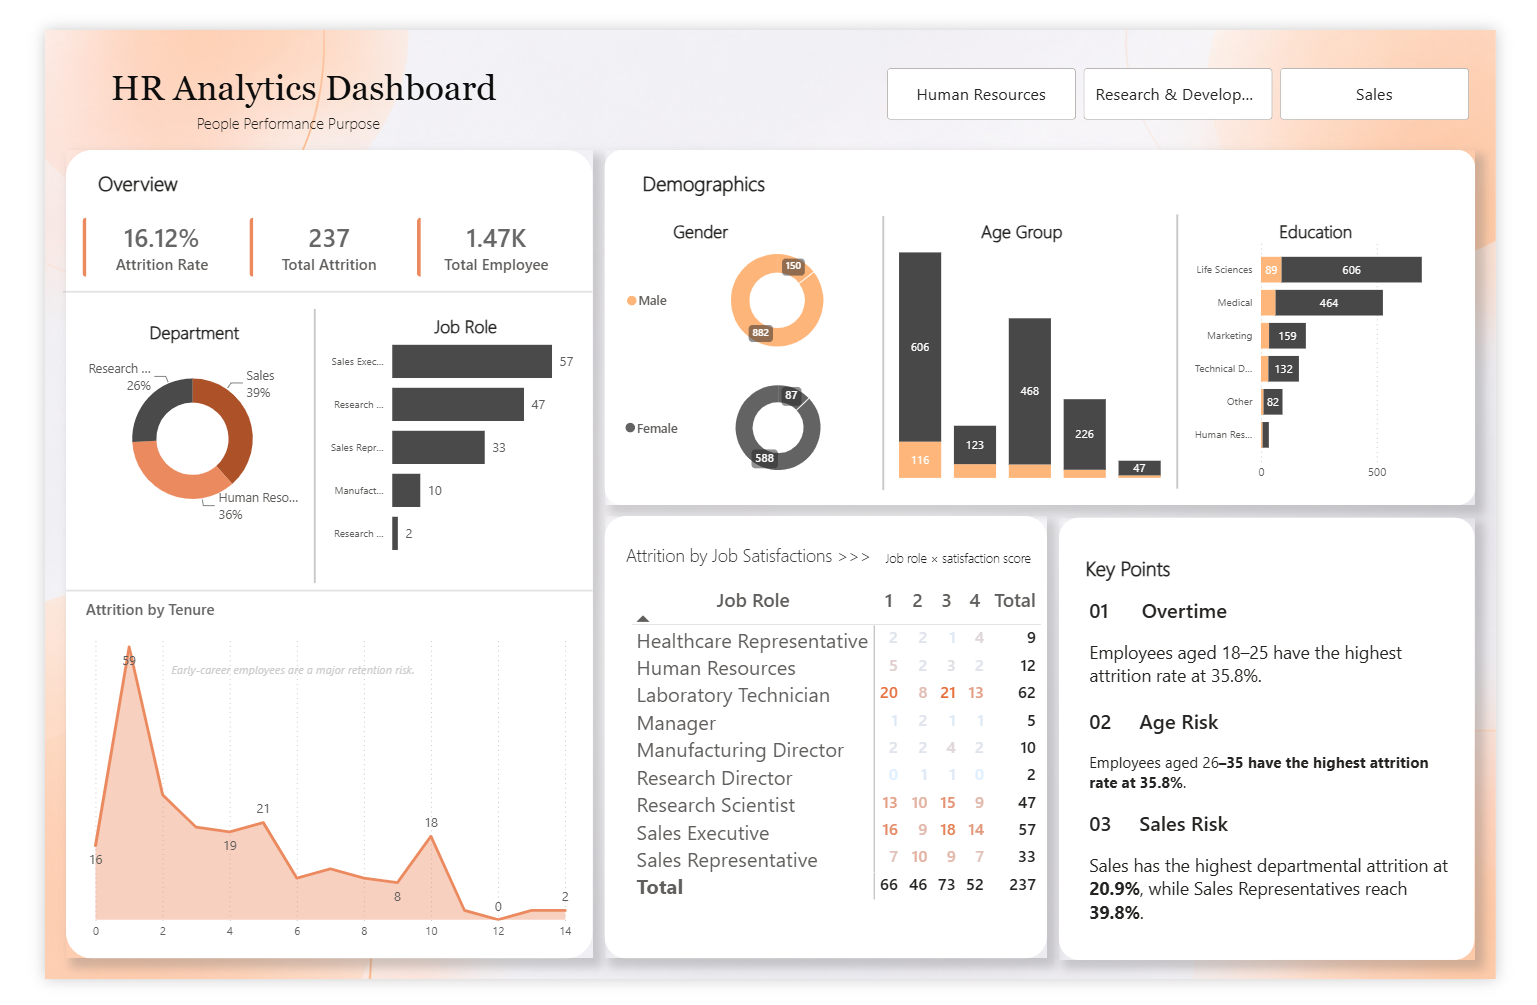

The page's visual inventory and layout, read from the dashboard file:
{"tool":"powerbi","page":{"name":"Overview","canvas":[1536,1005],"ordinal":0},"visuals":[{"type":"shape","box":[1099.8,831.4,62.4,59.5],"z":0},{"type":"shape","box":[1099.8,838.6,62.4,59.5],"z":1000},{"type":"shape","box":[22.2,127,557.1,855.6],"z":2000},{"type":"textbox","box":[19,34.9,509.5,55.6],"z":3000},{"type":"textbox","box":[155.6,82.5,207.5,36.3],"z":4000},{"type":"shape","box":[592,126.2,921.3,375.8],"z":5000},{"type":"shape","box":[592.1,514.3,468.3,468.3],"z":6000},{"type":"shape","box":[1072.2,515.1,439.7,468.3],"z":7000},{"type":"textbox","box":[37.7,140.7,120.4,40.6],"z":8000},{"type":"cardVisual","fields":{"Data":["HR_Analytics.AttritionRate","Sum(HR_Analytics.Attrition Count)","CountNonNull(HR_Analytics.EmpID)"]},"box":[21.8,181.4,557.2,97.2],"z":9000},{"type":"shape","box":[19,215.9,560.3,122.2],"z":10000},{"type":"textbox","box":[93.7,301.6,128.6,36.5],"z":11000},{"type":"textbox","box":[381,295.2,128.6,36.5],"z":12000},{"type":"donutChart","title":"Attrition by Department","fields":{"Category":["HR_Analytics.Department"],"Y":["HR_Analytics.AttritionRate"]},"box":[38.2,279.6,235.3,305.6],"z":13000},{"type":"areaChart","title":"Attrition by Tenure","fields":{"Category":["HR_Analytics.YearsAtCompany"],"Y":["Sum(HR_Analytics.Attrition Count)"]},"box":[38.1,601.6,527,369.8],"z":14000},{"type":"shape","box":[274.2,294.5,21.8,290.2],"z":15000},{"type":"pivotTable","fields":{"Columns":["HR_Analytics.JobSatisfaction"],"Rows":["HR_Analytics.JobRole"],"Values":["Sum(HR_Analytics.Attrition Count)"]},"box":[615.9,584.1,444.4,376.2],"z":16000},{"type":"textbox","box":[609.4,538.3,278.6,36.3],"z":17000},{"type":"barChart","title":"Attrition by Job Role","fields":{"Category":["HR_Analytics.JobRole"],"Y":["Sum(HR_Analytics.Attrition Count)"]},"box":[284.4,301.8,280,272.8],"z":18000},{"type":"shape","box":[21.8,538.3,557.2,110.3],"z":19000},{"type":"textbox","box":[607.9,140.7,178.5,40.6],"z":20000},{"type":"textbox","box":[628.3,195.9,130.6,34.8],"z":21000},{"type":"shape","box":[876.7,196.2,21.8,290.2],"z":22000},{"type":"shape","box":[1186.9,195.9,21.8,290.2],"z":23000},{"type":"textbox","box":[968.7,195.6,130.6,34.8],"z":24000},{"type":"textbox","box":[1278.8,195.6,130.6,34.8],"z":25000},{"type":"columnChart","fields":{"Category":["HR_Analytics.AgeGroup"],"Y":["Sum(HR_Analytics.Attrition Count)","HR_Analytics.Total Employees"]},"box":[898.1,195.9,288.7,284.4],"z":26000},{"type":"donutChart","fields":{"Category":["HR_Analytics.Gender"],"Y":["Sum(HR_Analytics.Attrition Count)","HR_Analytics.Total Employees"]},"box":[609.5,215.9,277.8,139.7],"z":27000},{"type":"donutChart","fields":{"Category":["HR_Analytics.Gender"],"Y":["Sum(HR_Analytics.Attrition Count)","HR_Analytics.Total Employees"]},"box":[607.7,356,269,129.8],"z":28000},{"type":"barChart","fields":{"Category":["HR_Analytics.EducationField"],"Y":["Sum(HR_Analytics.Attrition Count)","HR_Analytics.Total Employees"]},"box":[1198.5,213.3,298.9,272.8],"z":29000},{"type":"advancedSlicerVisual","fields":{"Values":["HR_Analytics.Department"]},"box":[885.1,34.8,626.8,65.3],"z":30000},{"type":"textbox","box":[1083.8,549.9,123.8,42.8],"z":31000},{"type":"textbox","box":[1099.8,819.8,397.6,137.8],"z":32000},{"type":"textbox","box":[100.1,661.6,325,36.3],"z":33000},{"type":"textbox","box":[883.6,544.1,166.9,30.5],"z":34000},{"type":"textbox","box":[1099.8,593.4,397.6,117.5],"z":37000},{"type":"textbox","box":[1099.8,711,397.6,108.8],"z":38000}]}

Visuals, with their boxes in screenshot pixels (x1, y1, x2, y2), scaled from the page's 1536x1005 canvas onto the 1537x1005 screenshot:
shape: {"x1": 1101, "y1": 831, "x2": 1163, "y2": 891}
shape: {"x1": 1101, "y1": 839, "x2": 1163, "y2": 898}
shape: {"x1": 22, "y1": 127, "x2": 580, "y2": 983}
textbox: {"x1": 19, "y1": 35, "x2": 529, "y2": 90}
textbox: {"x1": 156, "y1": 82, "x2": 363, "y2": 119}
shape: {"x1": 592, "y1": 126, "x2": 1514, "y2": 502}
shape: {"x1": 592, "y1": 514, "x2": 1061, "y2": 983}
shape: {"x1": 1073, "y1": 515, "x2": 1513, "y2": 983}
textbox: {"x1": 38, "y1": 141, "x2": 158, "y2": 181}
cardVisual - HR_Analytics.AttritionRate x Sum(HR_Analytics.Attrition Count): {"x1": 22, "y1": 181, "x2": 579, "y2": 279}
shape: {"x1": 19, "y1": 216, "x2": 580, "y2": 338}
textbox: {"x1": 94, "y1": 302, "x2": 222, "y2": 338}
textbox: {"x1": 381, "y1": 295, "x2": 510, "y2": 332}
"Attrition by Department" donutChart: {"x1": 38, "y1": 280, "x2": 274, "y2": 585}
"Attrition by Tenure" areaChart: {"x1": 38, "y1": 602, "x2": 565, "y2": 971}
shape: {"x1": 274, "y1": 294, "x2": 296, "y2": 585}
pivotTable - HR_Analytics.JobSatisfaction x HR_Analytics.JobRole: {"x1": 616, "y1": 584, "x2": 1061, "y2": 960}
textbox: {"x1": 610, "y1": 538, "x2": 889, "y2": 575}
"Attrition by Job Role" barChart: {"x1": 285, "y1": 302, "x2": 565, "y2": 575}
shape: {"x1": 22, "y1": 538, "x2": 579, "y2": 649}
textbox: {"x1": 608, "y1": 141, "x2": 787, "y2": 181}
textbox: {"x1": 629, "y1": 196, "x2": 759, "y2": 231}
shape: {"x1": 877, "y1": 196, "x2": 899, "y2": 486}
shape: {"x1": 1188, "y1": 196, "x2": 1209, "y2": 486}
textbox: {"x1": 969, "y1": 196, "x2": 1100, "y2": 230}
textbox: {"x1": 1280, "y1": 196, "x2": 1410, "y2": 230}
columnChart - HR_Analytics.AgeGroup x Sum(HR_Analytics.Attrition Count): {"x1": 899, "y1": 196, "x2": 1188, "y2": 480}
donutChart - HR_Analytics.Gender x Sum(HR_Analytics.Attrition Count): {"x1": 610, "y1": 216, "x2": 888, "y2": 356}
donutChart - HR_Analytics.Gender x Sum(HR_Analytics.Attrition Count): {"x1": 608, "y1": 356, "x2": 877, "y2": 486}
barChart - HR_Analytics.EducationField x Sum(HR_Analytics.Attrition Count): {"x1": 1199, "y1": 213, "x2": 1498, "y2": 486}
advancedSlicerVisual - HR_Analytics.Department: {"x1": 886, "y1": 35, "x2": 1513, "y2": 100}
textbox: {"x1": 1085, "y1": 550, "x2": 1208, "y2": 593}
textbox: {"x1": 1101, "y1": 820, "x2": 1498, "y2": 958}
textbox: {"x1": 100, "y1": 662, "x2": 425, "y2": 698}
textbox: {"x1": 884, "y1": 544, "x2": 1051, "y2": 575}
textbox: {"x1": 1101, "y1": 593, "x2": 1498, "y2": 711}
textbox: {"x1": 1101, "y1": 711, "x2": 1498, "y2": 820}
